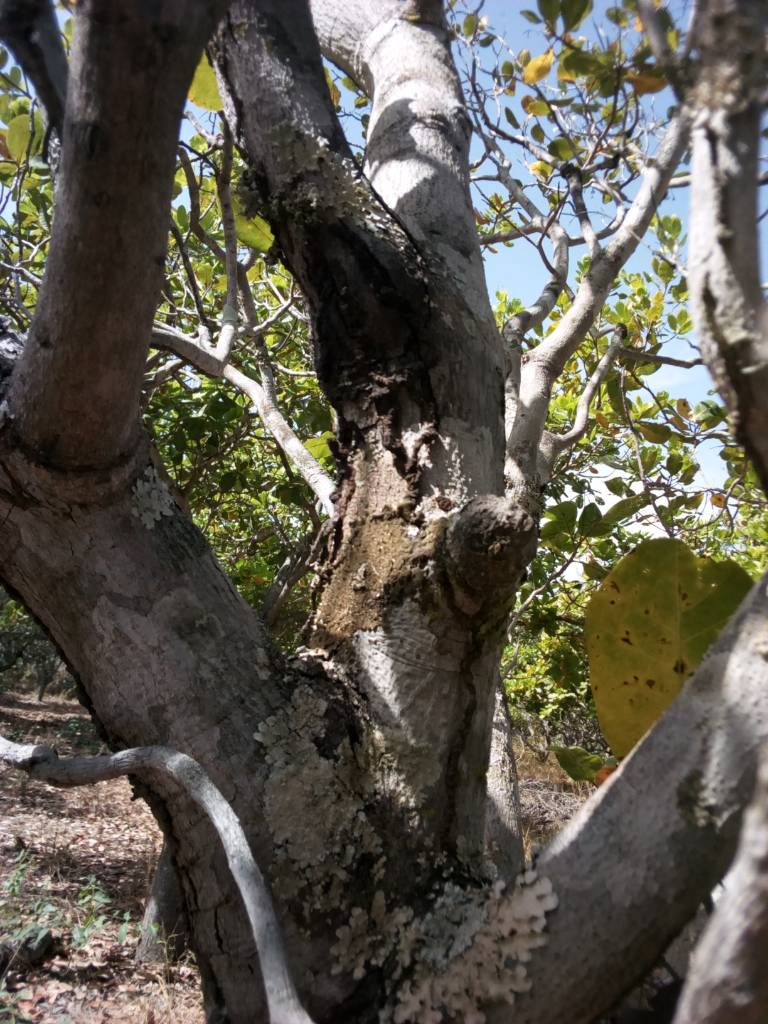Termites: (313, 388, 447, 641)
